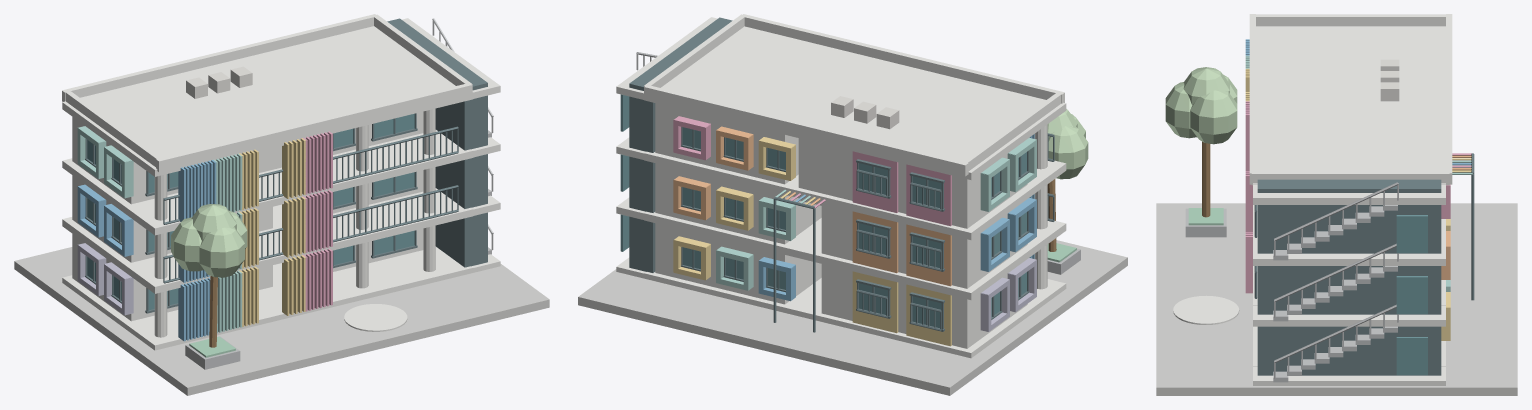
File: dot-P13.glb
3 renders of one model, left to right at view 1: azimuth 30°, elevation 25°; view 2: azimuth 150°, elevation 25°; view 3: azimuth 270°, elevation 25°, orthographic. The views are drawn at different scales.
Visible parts, largest first — view 1: pave; view 2: pave; view 3: pave.
Part boxes in pixels (<box>): pave: <box>14,14,549,395</box>; pave: <box>578,14,1127,395</box>; pave: <box>1156,14,1517,395</box>.
Size of the model in its own units: 6.09 by 3.27 by 5.03.
1 material, 1 textured.
